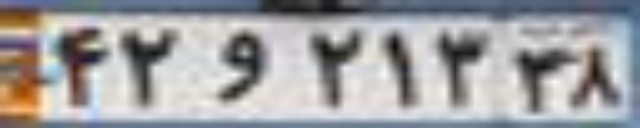1: (378, 27, 419, 108)
2: (115, 26, 176, 108), (308, 25, 366, 109)
3: (436, 27, 497, 108), (511, 44, 573, 114)
4: (56, 25, 108, 107)
8: (569, 42, 628, 110)
vav: (210, 29, 272, 103)
